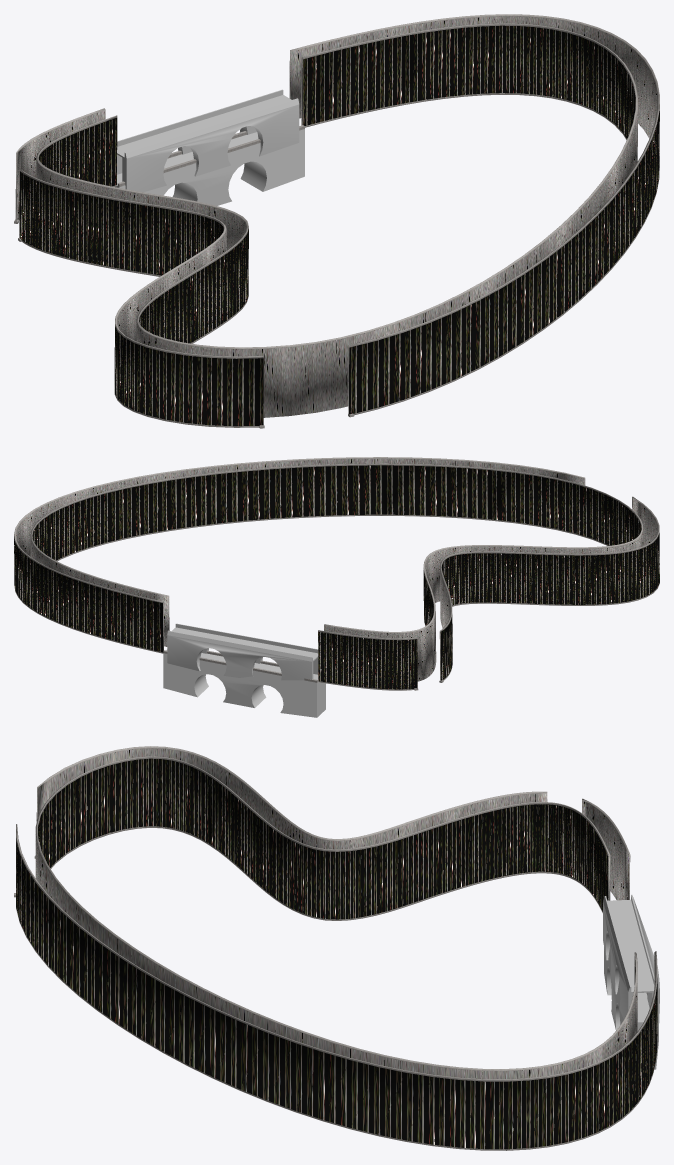
File: InvisibleWallV2.fbx
3 renders of one model, top to bottom at view 1: azimuth 30°, elevation 25°; view 2: azimuth 150°, elevation 25°; view 3: azimuth 270°, elevation 25°, orthographic. The views are drawn at different scales.
Visible parts, largest first — view 1: Box02, bridgeTop, bridgeBottom; view 2: Box02, bridgeBottom, bridgeTop; view 3: Box02, bridgeTop, bridgeBottom.
Part boxes in pixels (x1,y1,x2,y2): Box02: (15,14,659,427); bridgeTop: (117,89,299,192); bridgeBottom: (115,125,304,205); Box02: (14,457,659,690); bridgeBottom: (163,649,325,717); bridgeTop: (167,623,318,680); Box02: (16,746,657,1150); bridgeTop: (603,894,659,1029); bridgeBottom: (604,945,658,1069).
Bounding box in the file's own units: 369 × 61.13 × 301.
